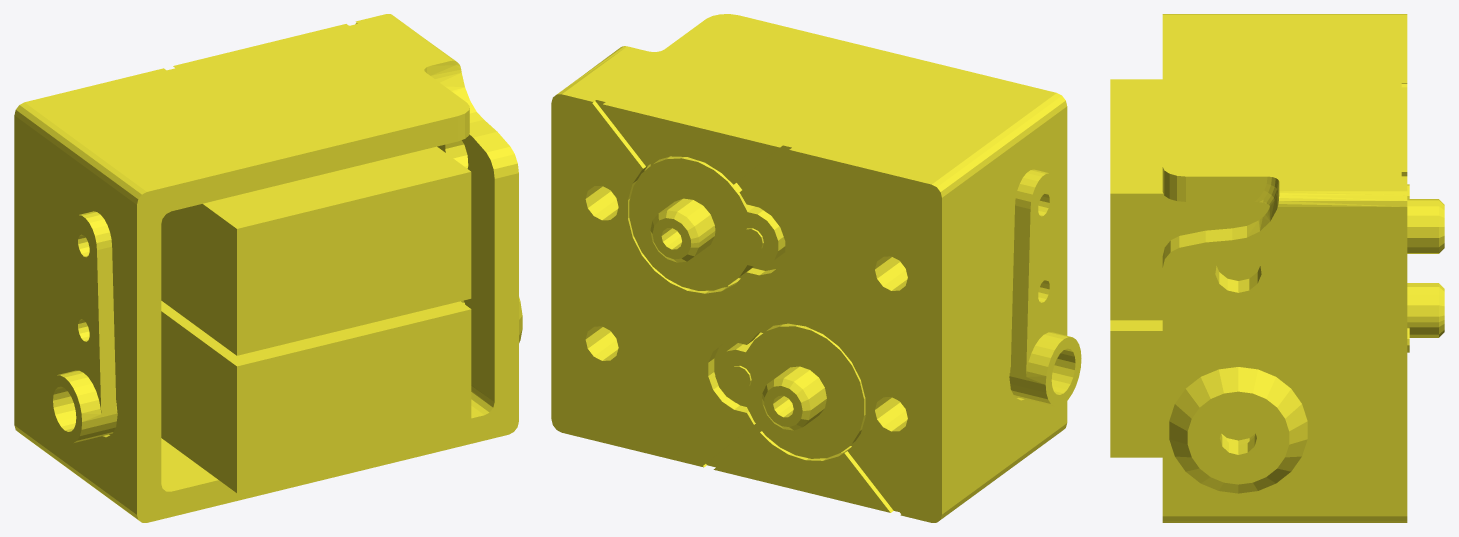
3 renders of one model, left to right at view 1: azimuth 30°, elevation 25°; view 2: azimuth 150°, elevation 25°; view 3: azimuth 270°, elevation 25°, orthographic. The views are drawn at different scales.
Visible parts, largest first — view 1: lf1; view 2: lf1; view 3: lf1.
Boxes of the visible parts, box(x1,y1,x2,y2) form: lf1: box(14, 14, 522, 522); lf1: box(551, 14, 1081, 522); lf1: box(1110, 14, 1444, 522).
Bounding box in the file's own units: 0.0428 × 0.0287 × 0.0313.
1 material, 1 textured.
